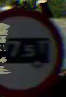Heavy Vehicles: (1, 5, 62, 90)
